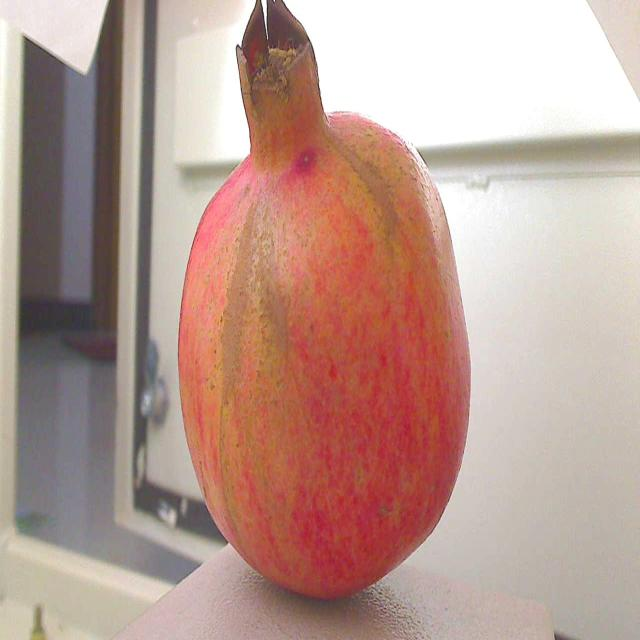pomegranate: (168, 0, 482, 602)
